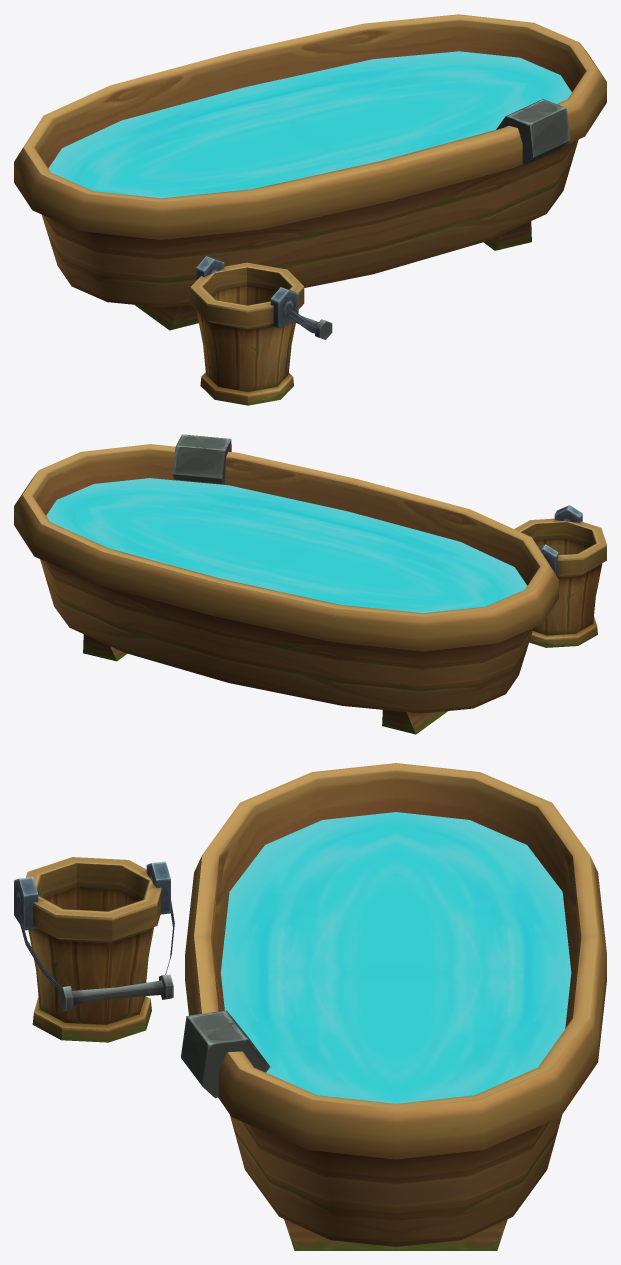
File: map_1002_shuicao_01.FBX
3 renders of one model, top to bottom at view 1: azimuth 30°, elevation 25°; view 2: azimuth 150°, elevation 25°; view 3: azimuth 270°, elevation 25°, orthographic. The views are drawn at different scales.
Visible parts, largest first — view 1: map_1002_shuicao_01; view 2: map_1002_shuicao_01; view 3: map_1002_shuicao_01.
Boxes of the visible parts, x1,y1,x2,y2 form: map_1002_shuicao_01: [14, 14, 606, 405]; map_1002_shuicao_01: [14, 434, 606, 734]; map_1002_shuicao_01: [14, 763, 606, 1250].
Bounding box in the file's own units: 5.06 × 1.37 × 3.55.
